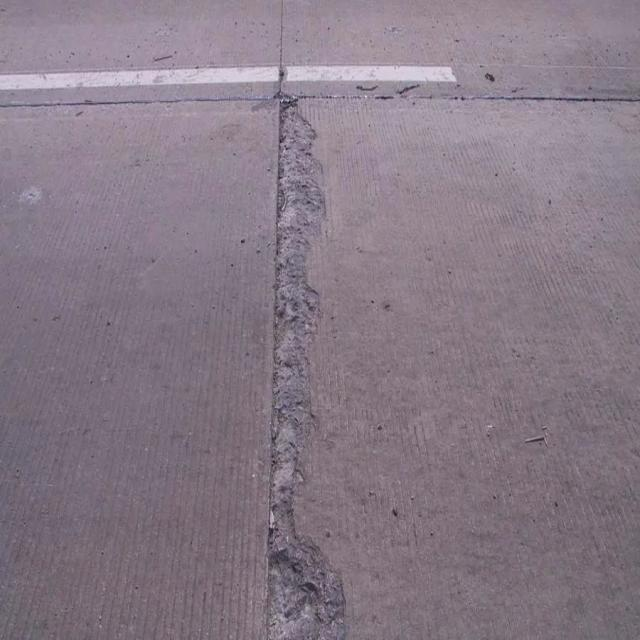Pothole: (264, 90, 352, 640)
